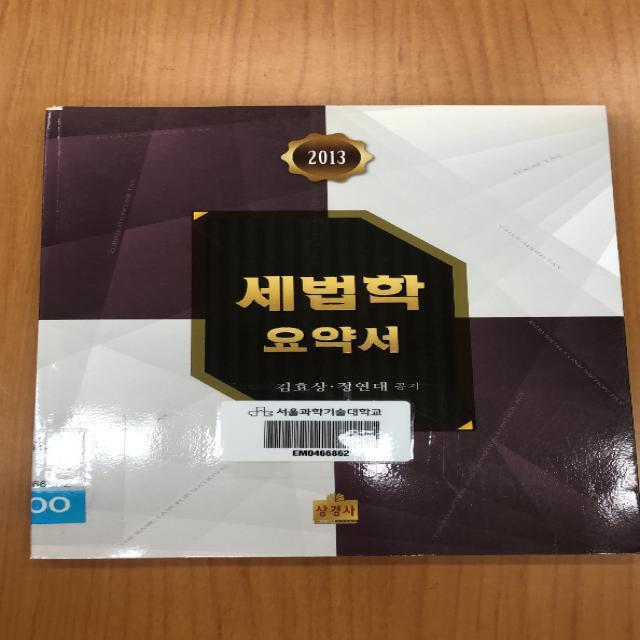Wornout: (386, 542, 432, 560), (42, 102, 82, 118)
